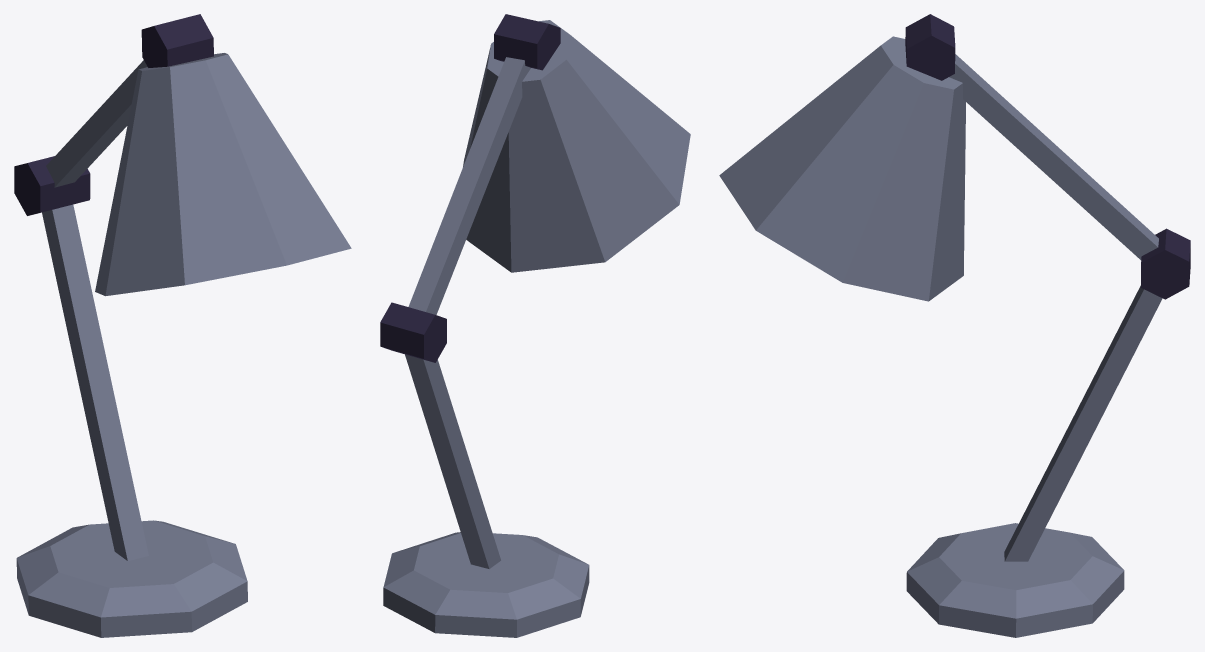
File: lamp.fbx
The picture shows the model from 3 angles, left to right: view 1: azimuth 30°, elevation 25°; view 2: azimuth 150°, elevation 25°; view 3: azimuth 270°, elevation 25°; orthographic projection. The views are drawn at different scales.
Parts seen in each view (by area): view 1: lamp; view 2: lamp; view 3: lamp.
Boxes of the visible parts, x1,y1,x2,y2 form: lamp: [14, 14, 351, 637]; lamp: [380, 14, 690, 637]; lamp: [719, 14, 1190, 637].
Size of the model in its own units: 0.196 by 0.4767 by 0.3602.
